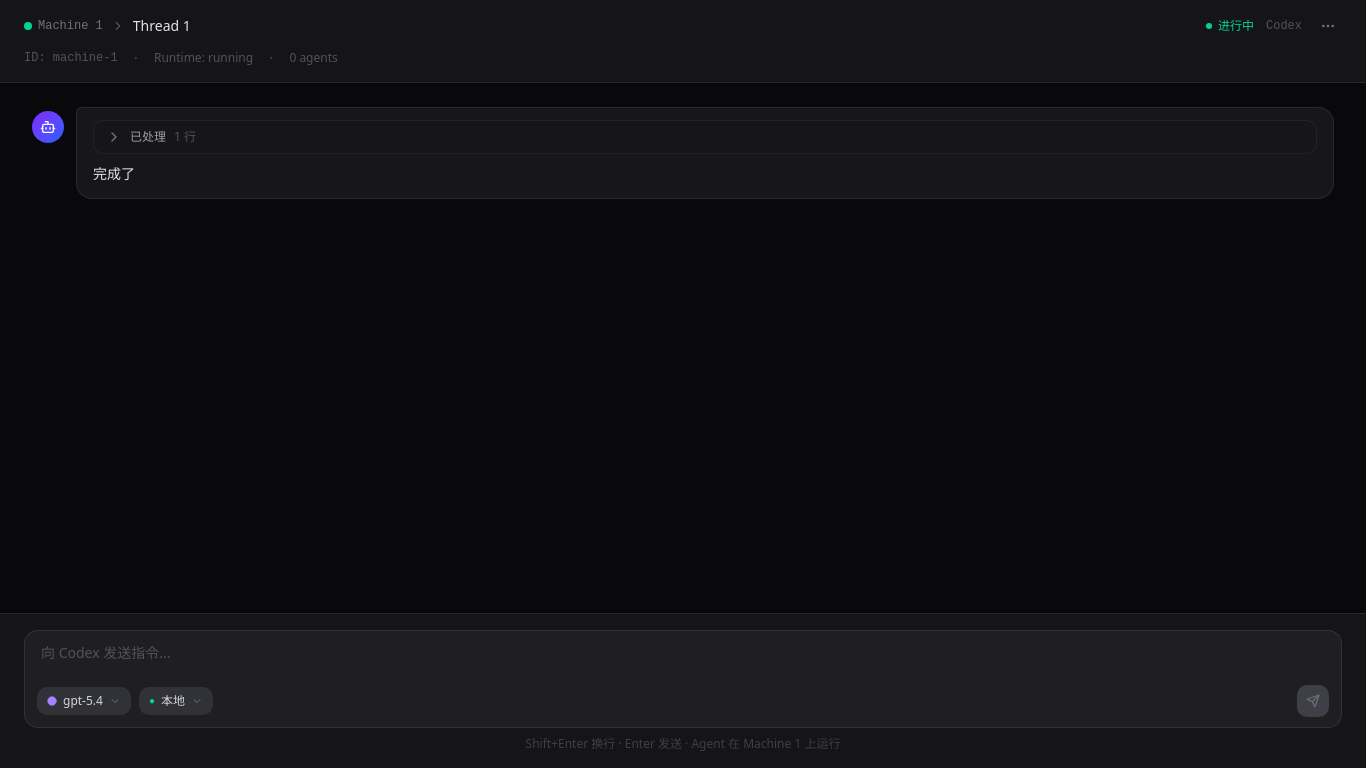
renders streaming process text without a synthetic progress heading
The image size is (1366, 768).
Click the text "已处理" at (148, 137), box [130,129,166,145]
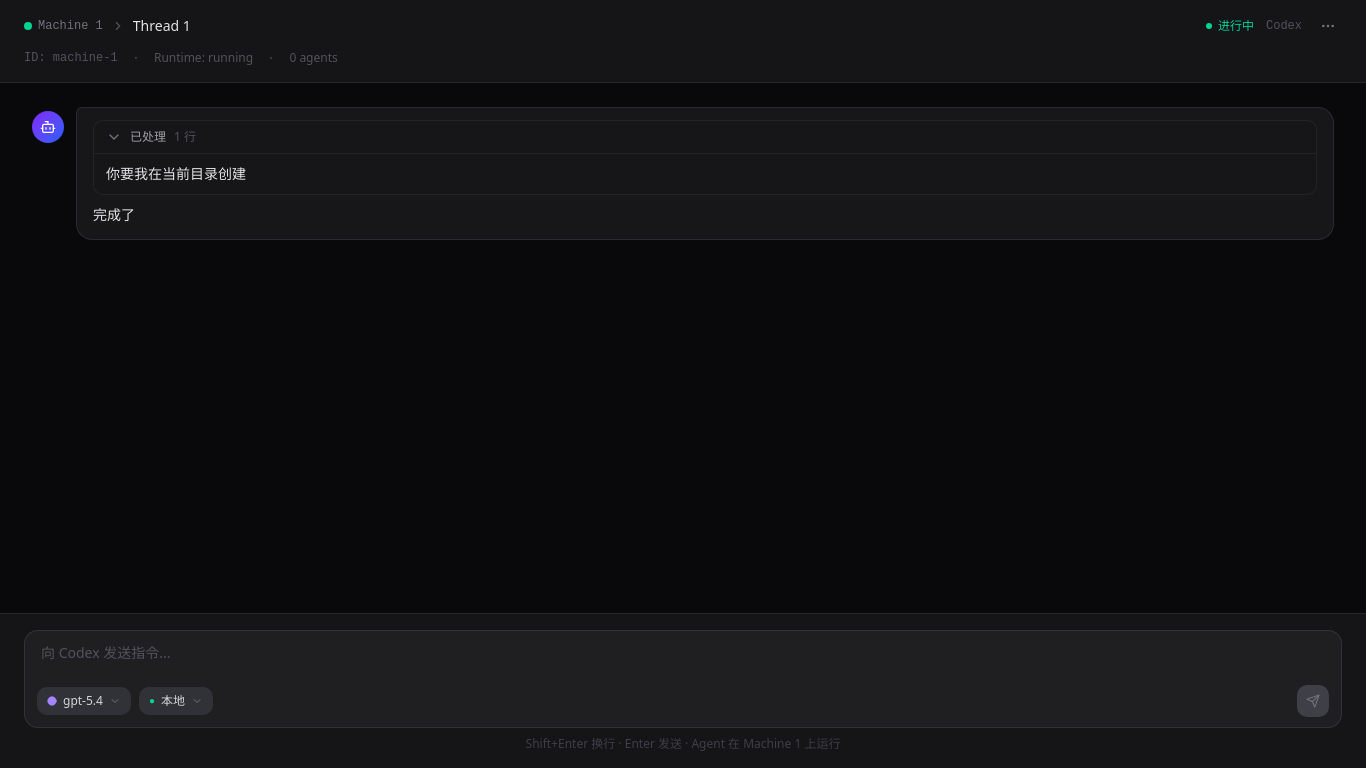
Result: the text "你要我在当前目录创建" is shown at [106,164,246,183]
